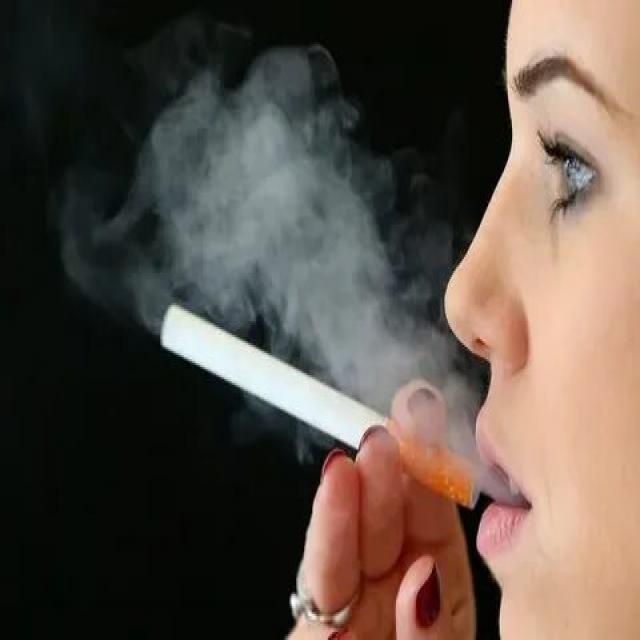smoke: (160, 297, 487, 518)
